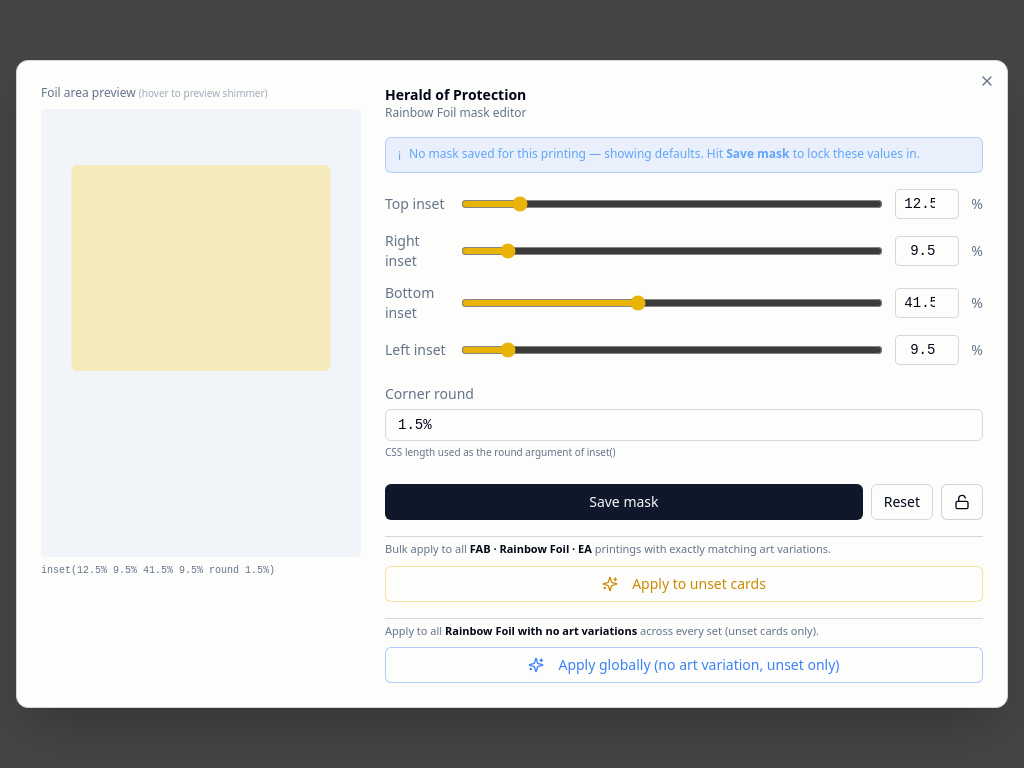
Test: FoilMaskEditor inset number inputs › accepts a multi-digit value typed key by key (e.g. "10") without losing focus
Clear the number field in the row of "Top inset" at (927, 204), box left=895, top=189, right=959, bottom=219
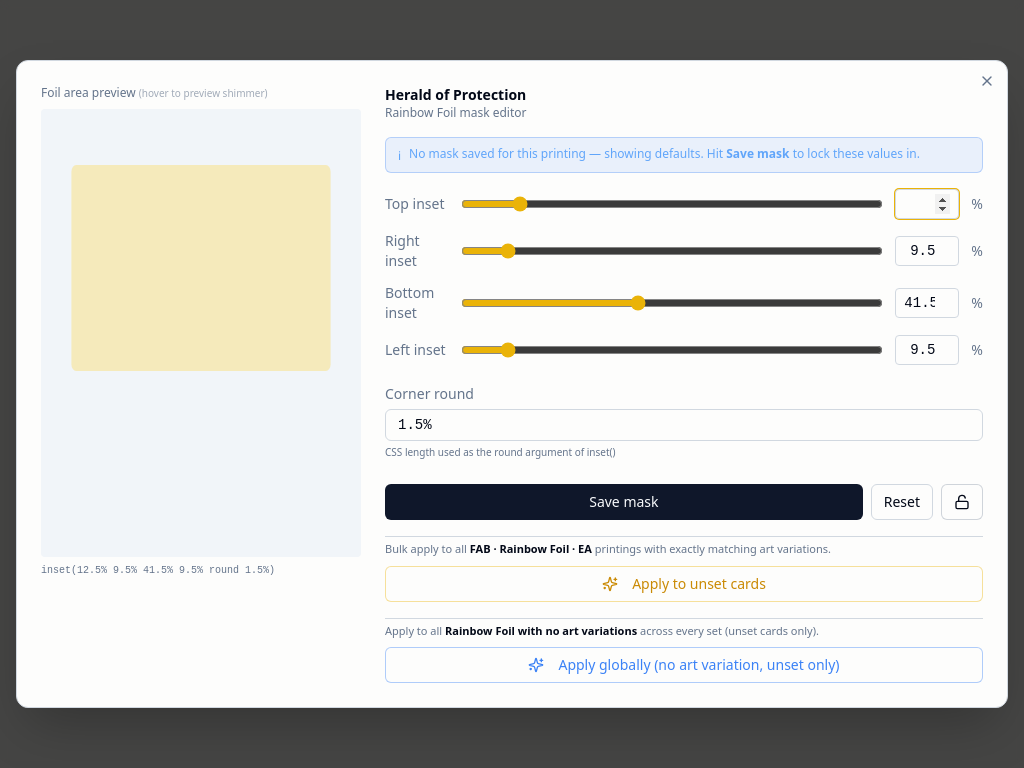
Type keys "10"
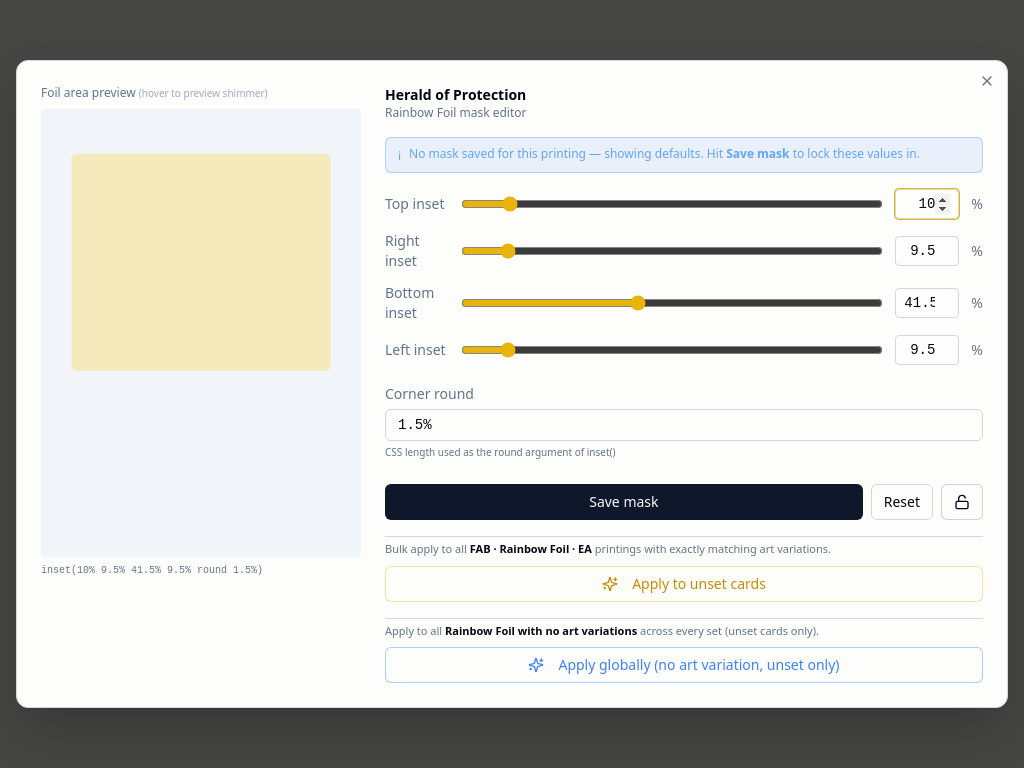
expect the number field in the row of "Top inset" holds "10": met, box left=895, top=189, right=959, bottom=219
